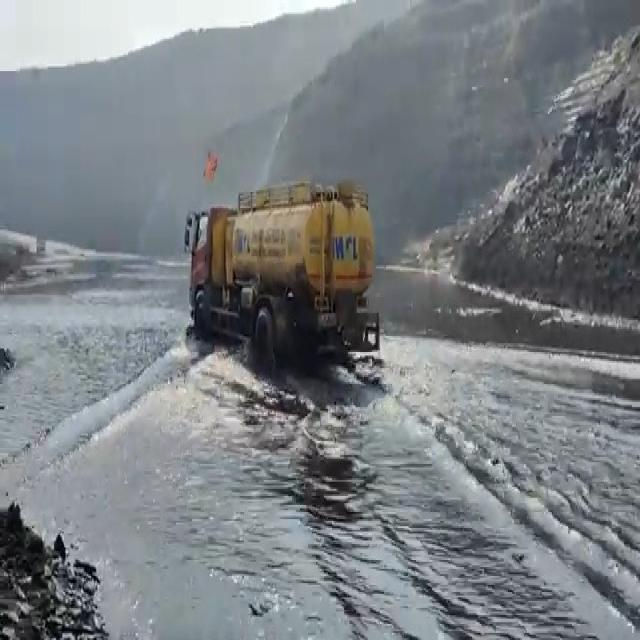dump_truck: (189, 182, 382, 368)
